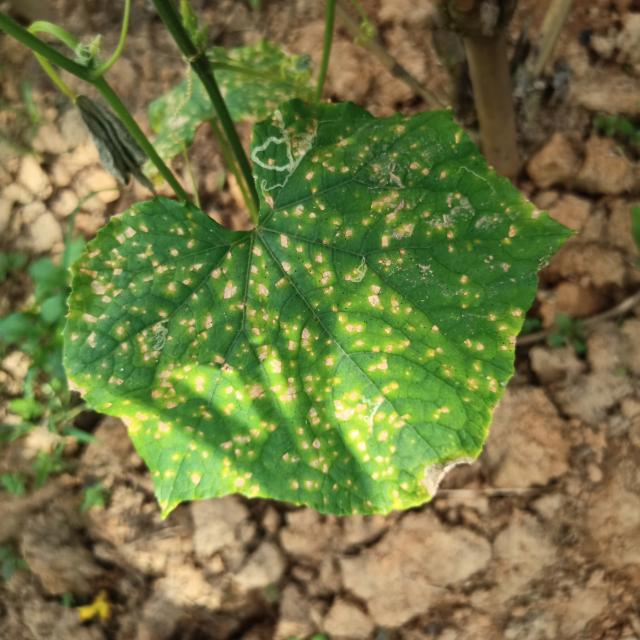disease_cucumber: (89, 146, 515, 492)
